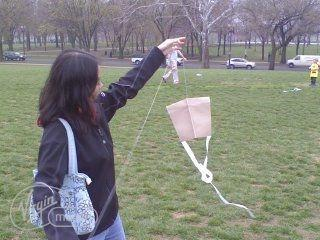car: (230, 58, 258, 70), (4, 51, 26, 62), (166, 55, 184, 66)
truck: (130, 54, 172, 68), (287, 54, 320, 68)
